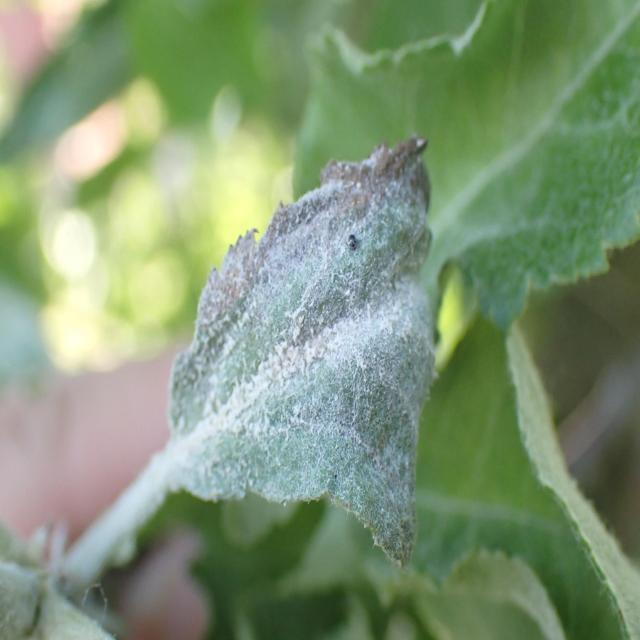Powdery_mildew: (136, 137, 456, 568), (503, 321, 640, 640)
